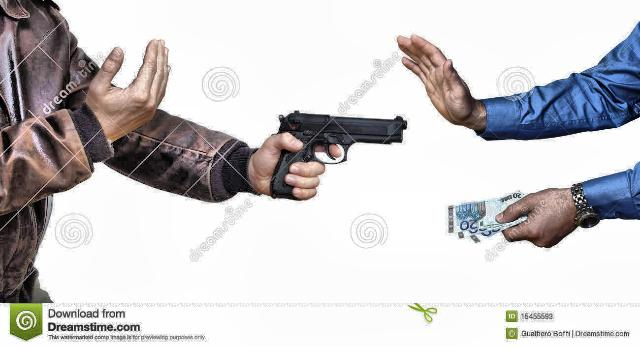pistol: (270, 106, 408, 200)
